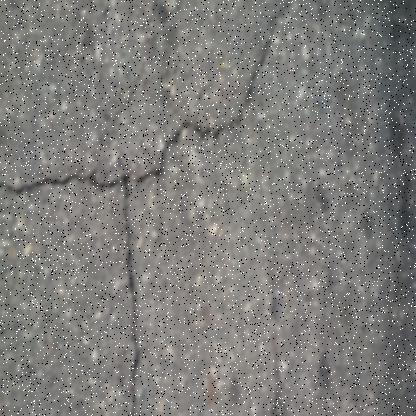Cracks: (0, 0, 299, 200), (114, 166, 143, 416)
